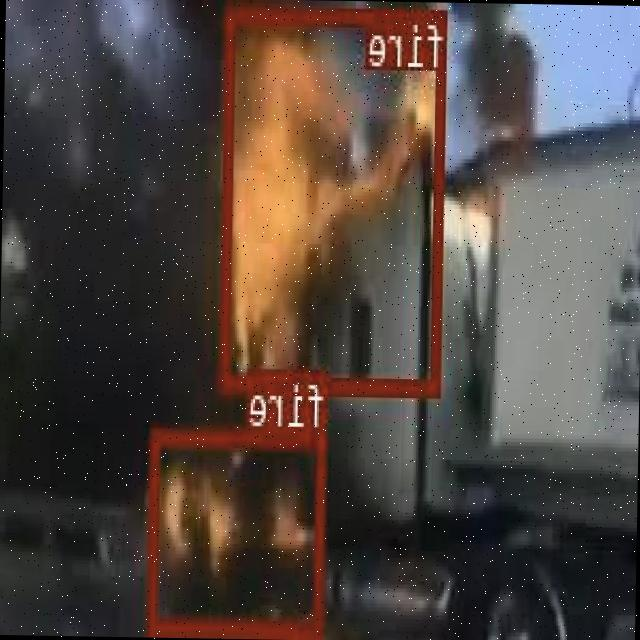fire: (221, 4, 447, 394), (150, 426, 329, 632)
